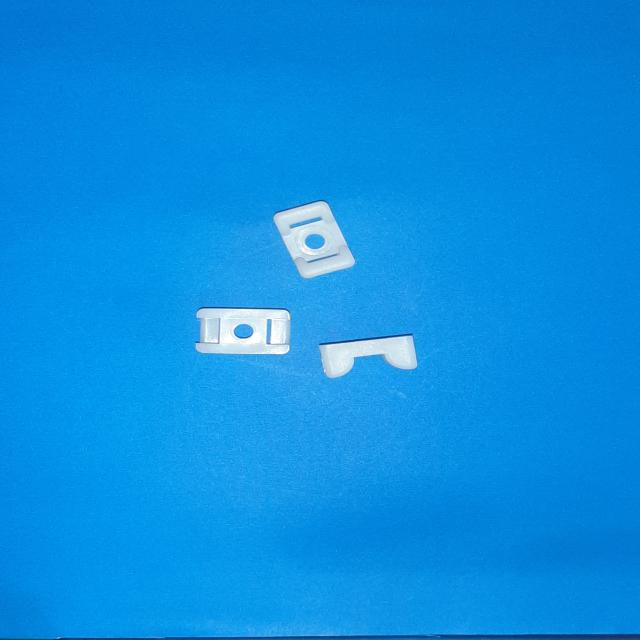false_1: (195, 308, 290, 355)
false_2: (318, 335, 417, 379)
true: (273, 201, 355, 279)
true_center: (305, 234, 325, 249)
